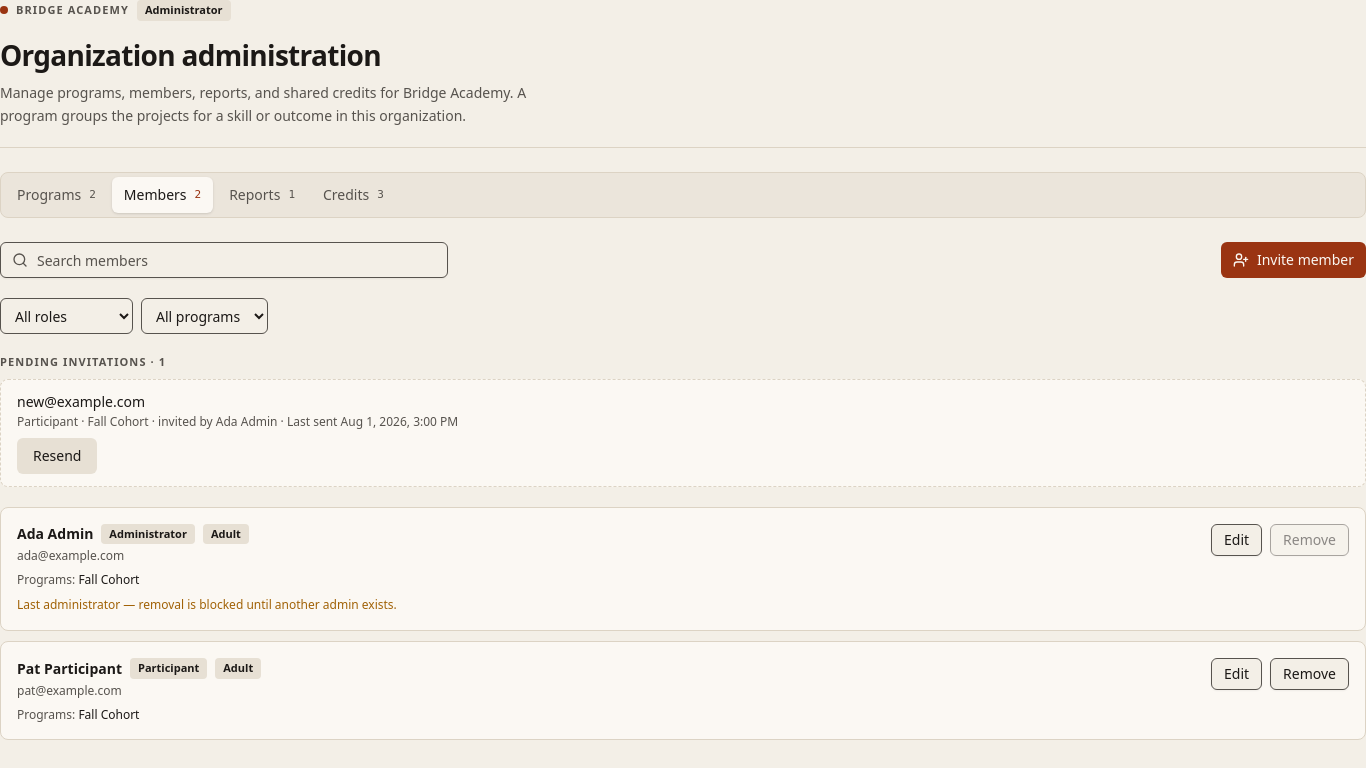
Test: OrgAdminPage › blocks removing the last administrator
Expected: the text "Ada Admin" is shown, [17,524,93,544]
Expected: the list item "Ada Admin" is shown, [17,524,93,543]
Click the button "Remove" in the row of "Pat Participant". click: (1310, 674)
box: [1270,658,1349,690]
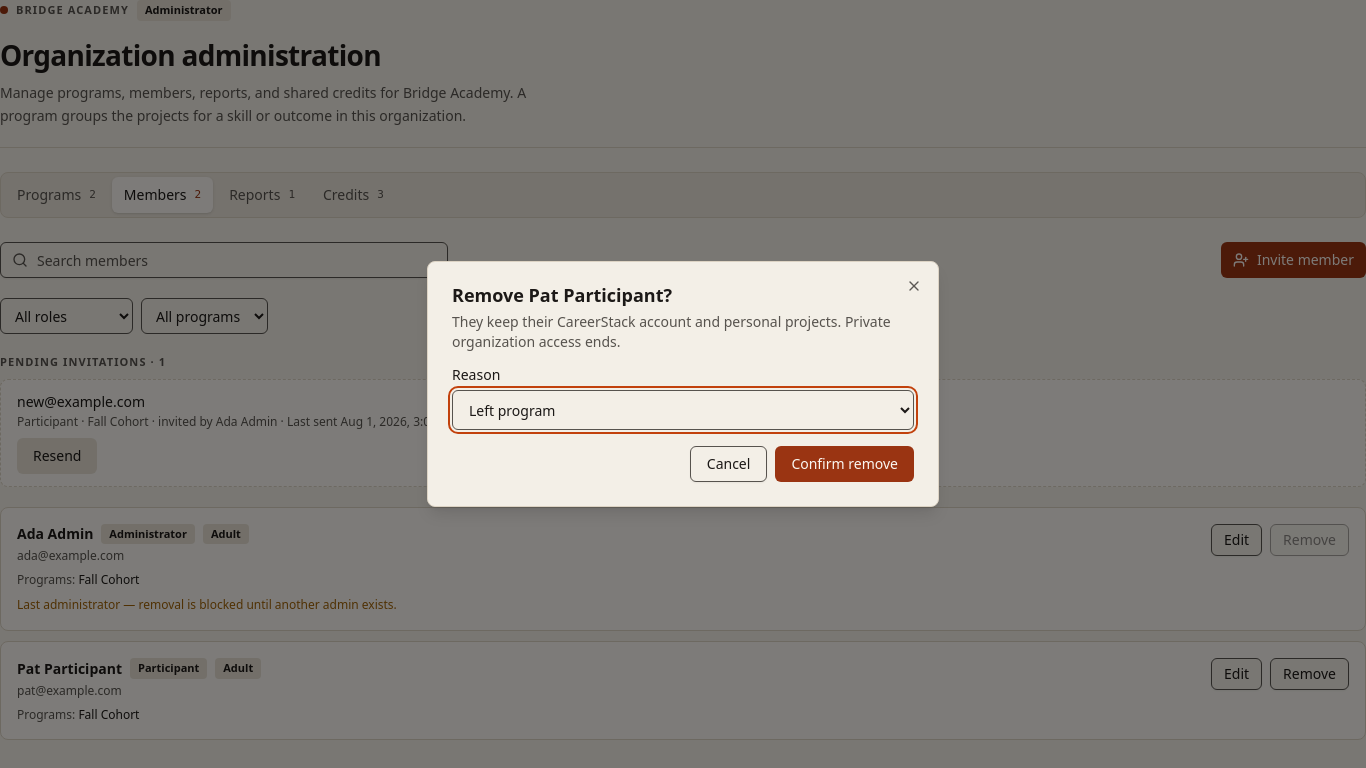
Expected: the dialog "Remove Pat Participant" is shown, [427,261,939,507]
